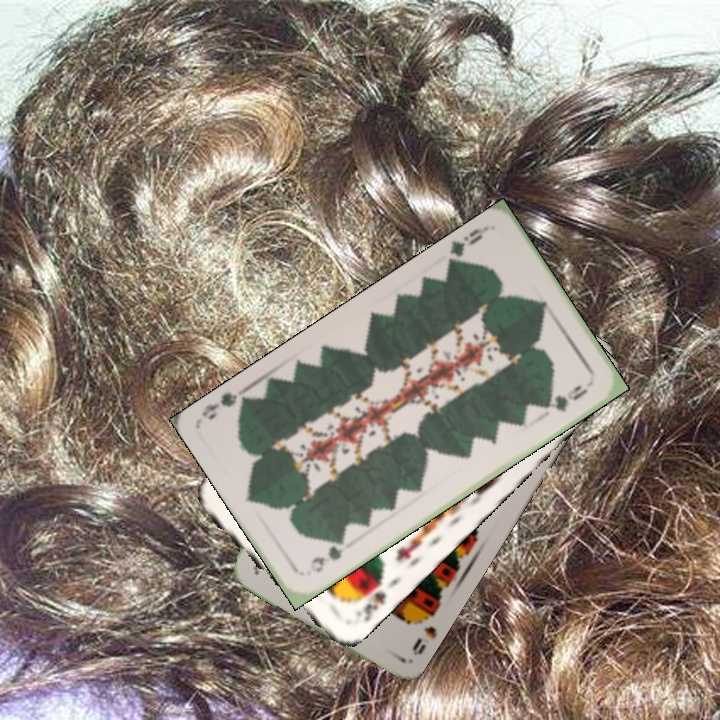G9: (444, 222, 490, 267), (305, 542, 346, 575)
S9: (408, 606, 439, 658)
SK: (350, 573, 389, 625)
